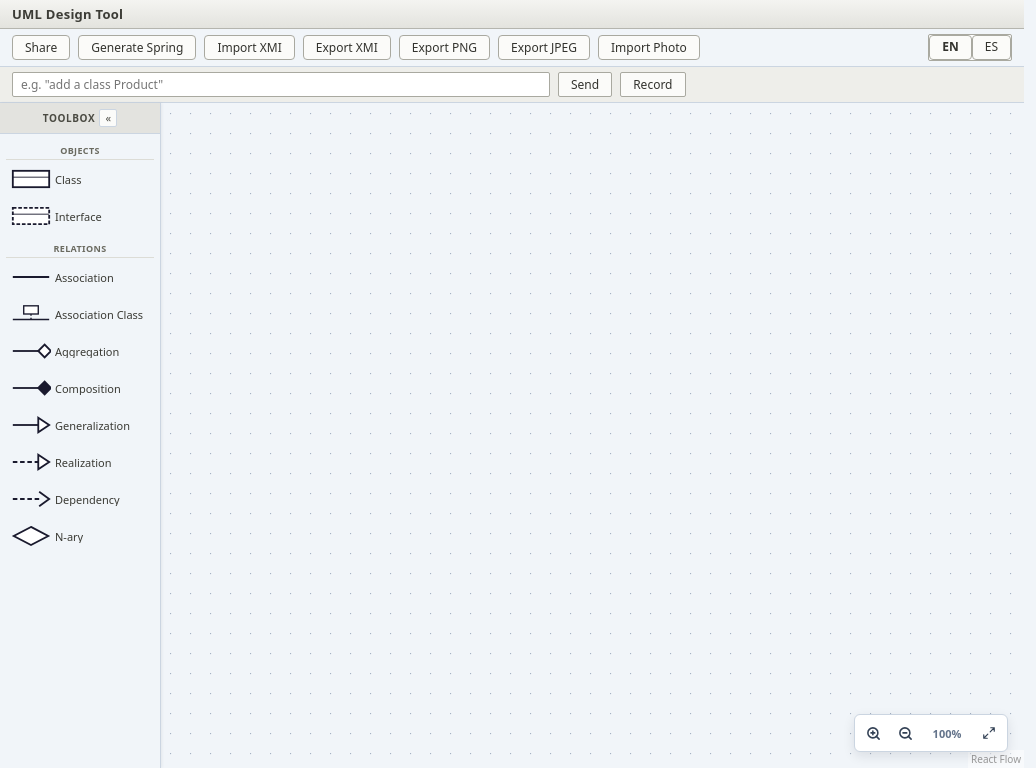
Test: Refusal and error surfacing (interpreter:R3/R1) › surfaces a 422 schema-invalid outcome as an explicit message with the model untouched
In the field named "Natural language command": (281, 84) [12, 72, 550, 97], type "do something weird"
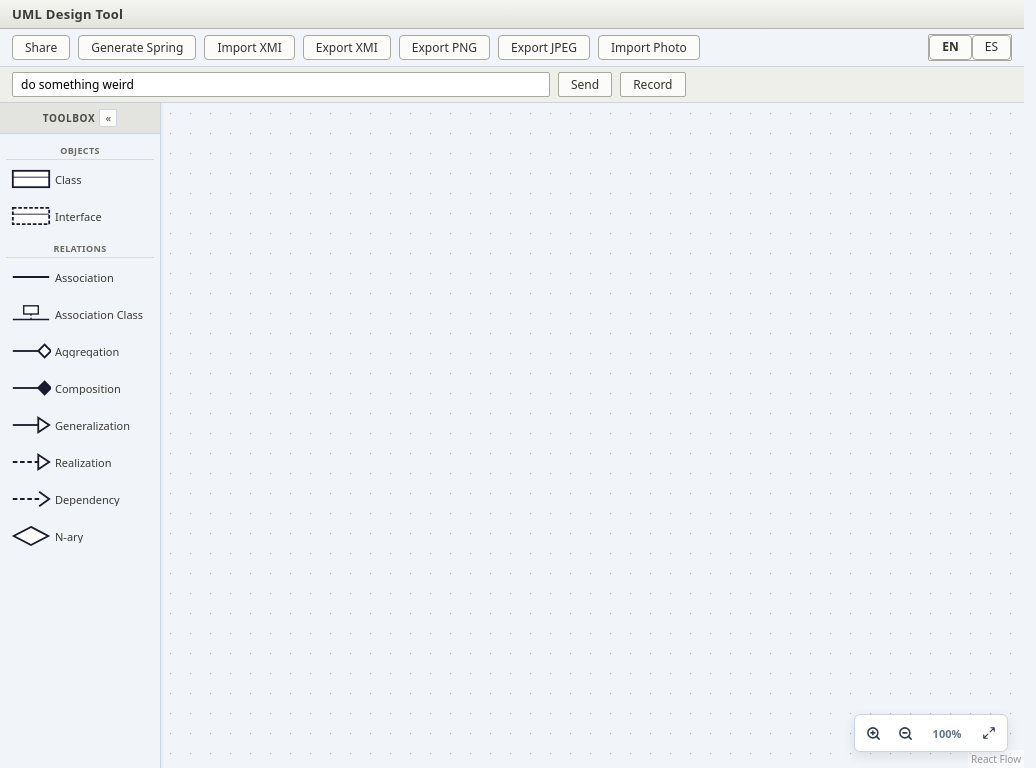
Click the button "Send": (585, 84) [558, 72, 612, 97]
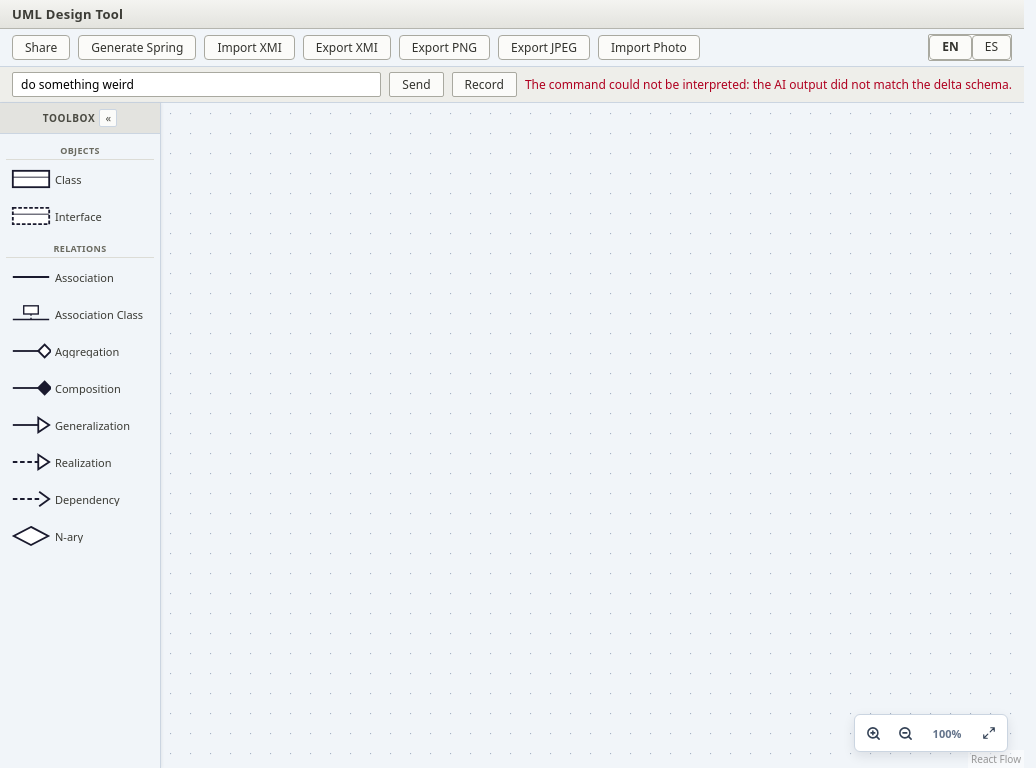
Now the text "the AI output did not match the delta schema" is shown, box [525, 76, 1012, 93]
